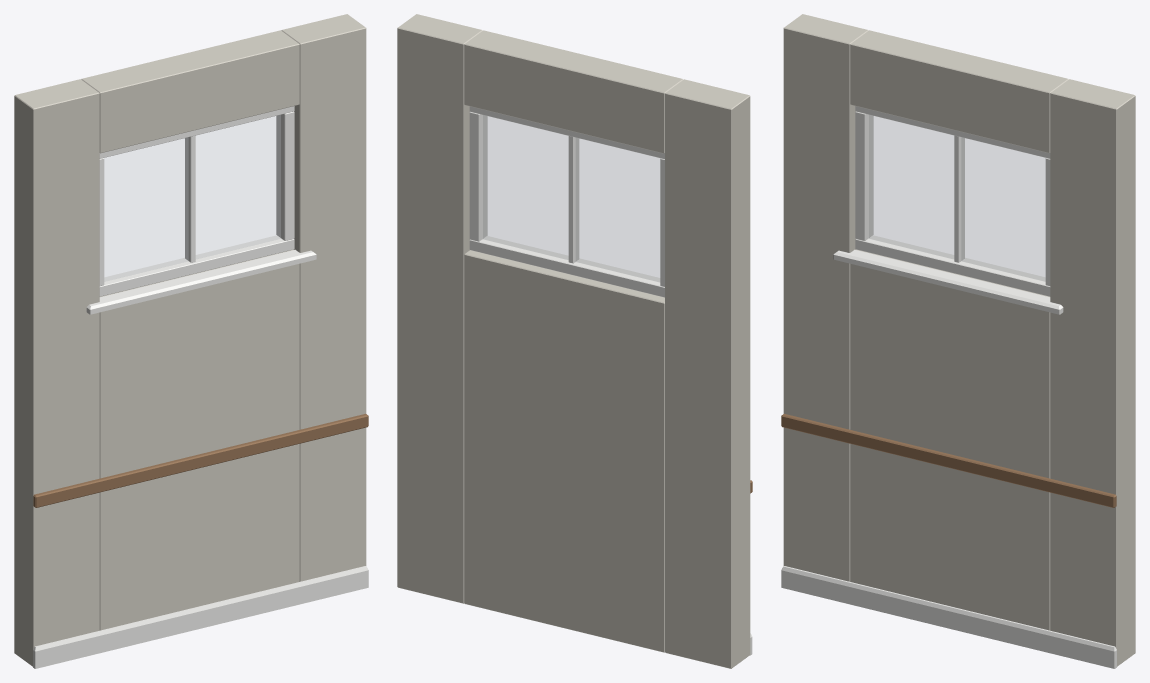
3 views of the same model, side by side, from view 1: azimuth 30°, elevation 25°; view 2: azimuth 150°, elevation 25°; view 3: azimuth 330°, elevation 25° (orthographic).
Parts seen in each view (by area): view 1: hall-wall-module; view 2: hall-wall-module; view 3: hall-wall-module.
Boxes of the visible parts, bbox=[...] form: hall-wall-module: bbox=[14, 14, 368, 668]; hall-wall-module: bbox=[397, 14, 752, 668]; hall-wall-module: bbox=[781, 14, 1135, 668].
Bounding box in the file's own units: 2 × 3.2 × 0.236.
